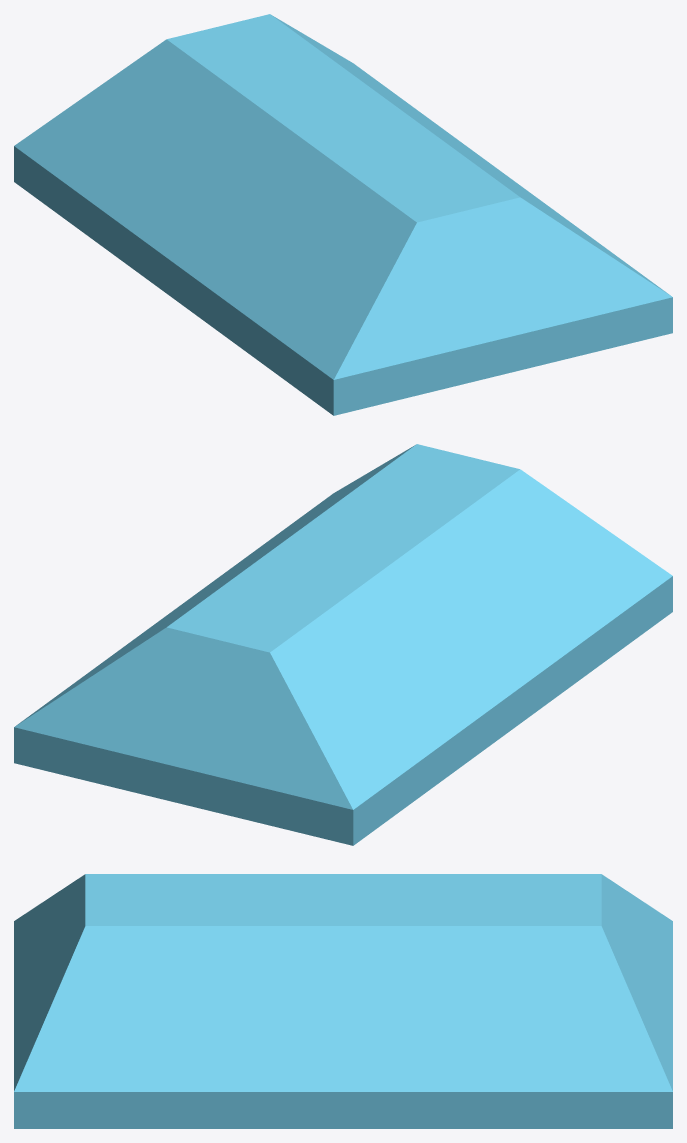
Rendered from Town_Bld-sm_Roof-Cube.FBX.
3 views of the same model, one above another, from view 1: azimuth 30°, elevation 25°; view 2: azimuth 150°, elevation 25°; view 3: azimuth 270°, elevation 25° (orthographic). The views are drawn at different scales.
Parts seen in each view (by area): view 1: Town_Bld-sm_Roof-Cube; view 2: Town_Bld-sm_Roof-Cube; view 3: Town_Bld-sm_Roof-Cube.
Part boxes in pixels (bbox=[...]): Town_Bld-sm_Roof-Cube: bbox=[14, 14, 672, 415]; Town_Bld-sm_Roof-Cube: bbox=[14, 444, 672, 845]; Town_Bld-sm_Roof-Cube: bbox=[14, 874, 672, 1128].
Size of the model in its own units: 319 by 125 by 521.
